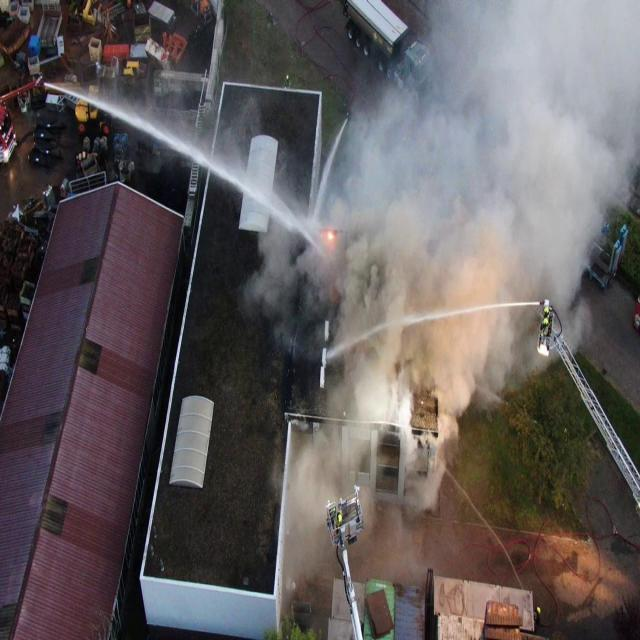Fire: (328, 233, 333, 239)
Smoke: (242, 0, 639, 596)
